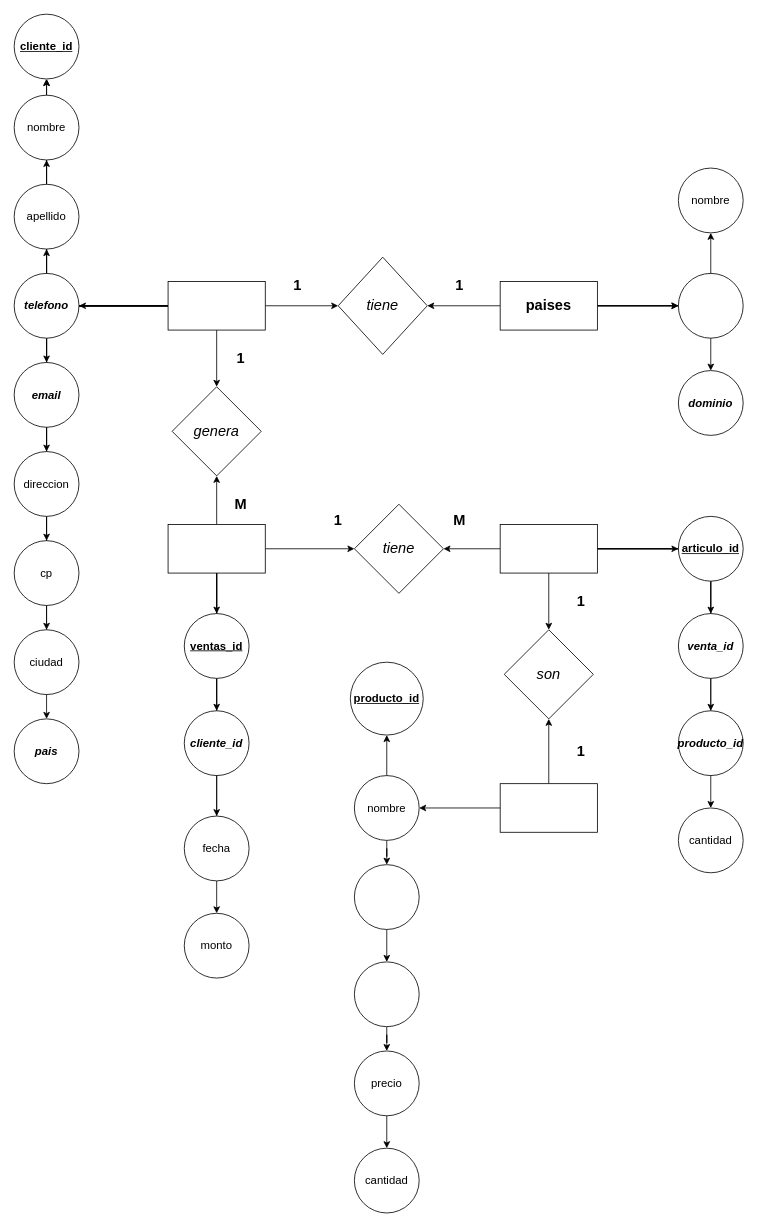
Some shapes in this 757 by 1227 pixel diagram are drawn without their labels. Here are the shapes that lost their labels. From the top down, the box of each, then its label:
(167, 281, 265, 330): clientes
(678, 273, 743, 338): pais_id
(167, 524, 265, 573): ventas
(499, 524, 597, 573): articulos
(499, 783, 597, 832): productos
(354, 864, 419, 929): descripcion
(354, 961, 419, 1027): foto
